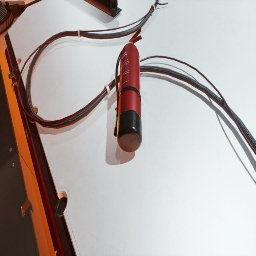FireExtinguisher ]: (114, 27, 142, 153)
